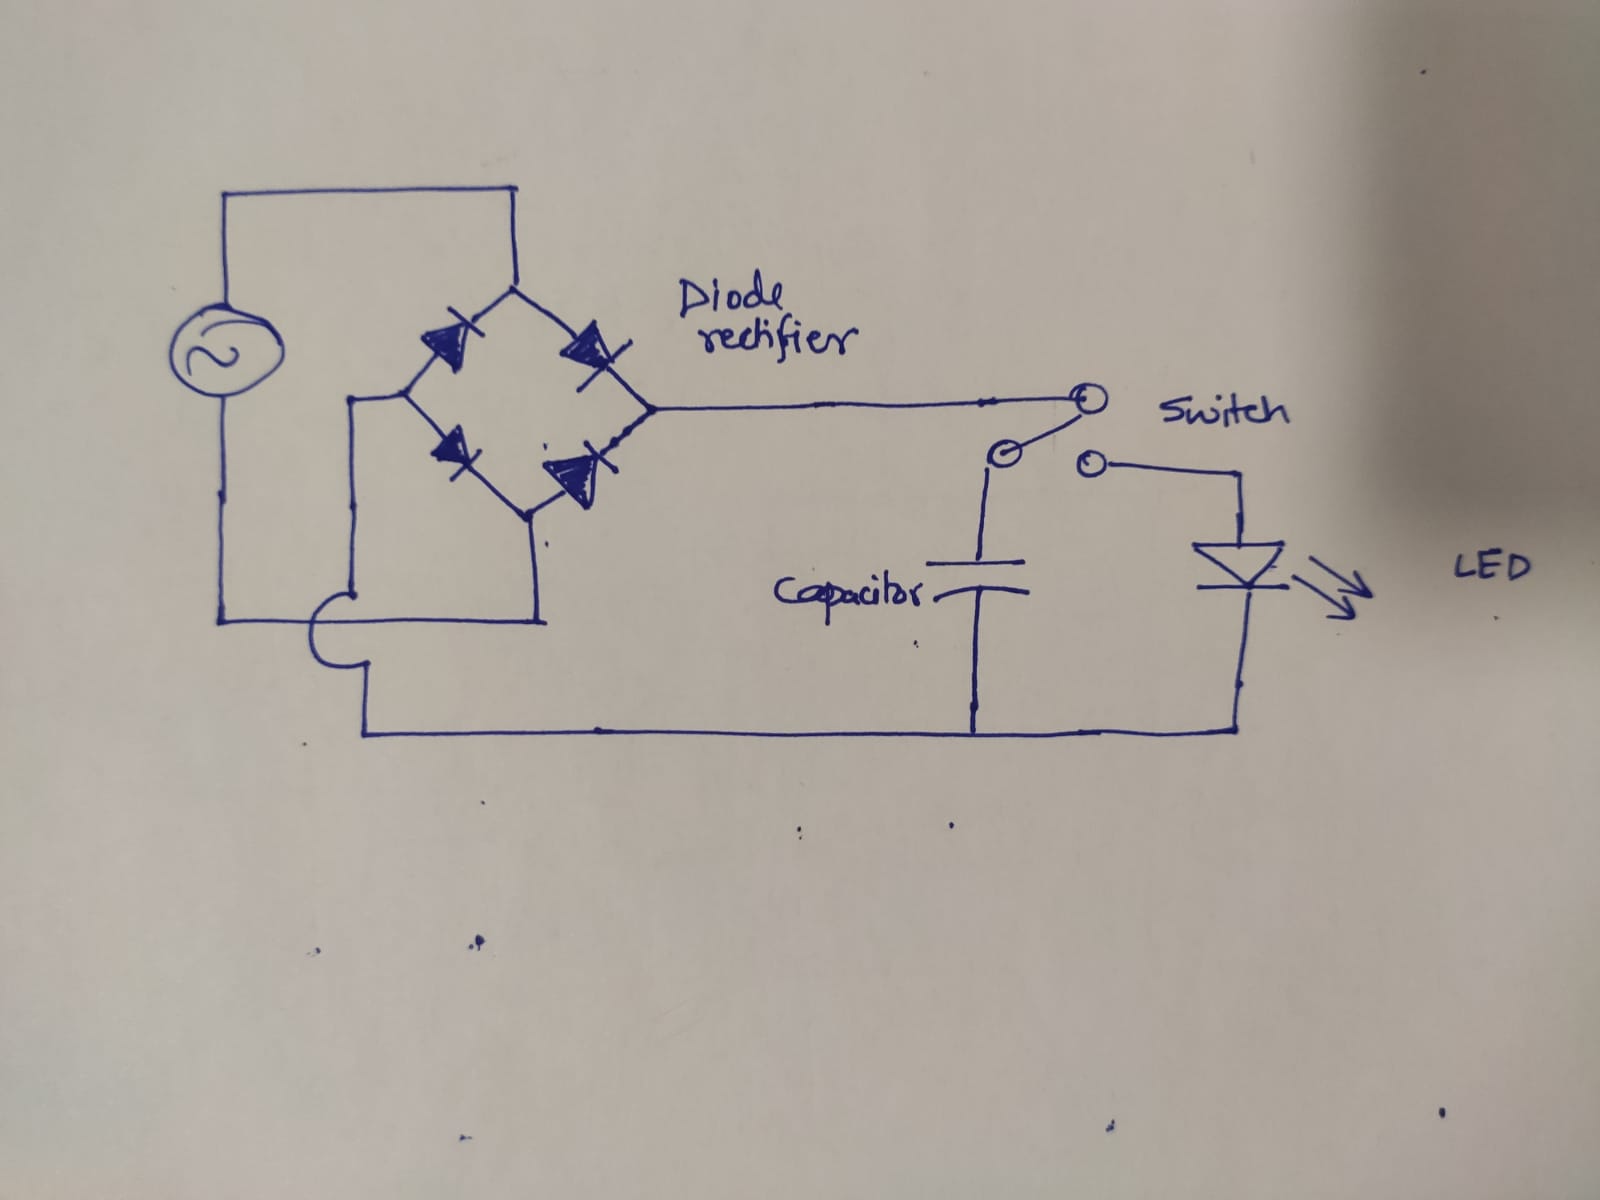capacitor.unpolarized: (925, 551, 1028, 604)
crossover: (305, 586, 375, 676)
diode: (540, 437, 620, 511), (558, 318, 631, 392), (417, 306, 483, 373), (428, 422, 481, 482)
diode.light_emitting: (1192, 537, 1373, 620)
junction: (519, 604, 551, 632), (499, 179, 529, 203), (336, 389, 365, 413), (354, 724, 382, 747), (207, 610, 233, 634), (959, 721, 986, 744), (1223, 718, 1247, 742), (1227, 465, 1252, 487), (514, 505, 539, 526), (215, 187, 239, 207), (503, 280, 524, 300), (641, 401, 660, 420), (396, 384, 414, 403)
switch: (978, 378, 1115, 480)
text: (675, 265, 863, 366), (772, 568, 927, 629), (1157, 388, 1294, 430), (1448, 545, 1533, 581)
voltage.dc_ac: (163, 300, 290, 405)
